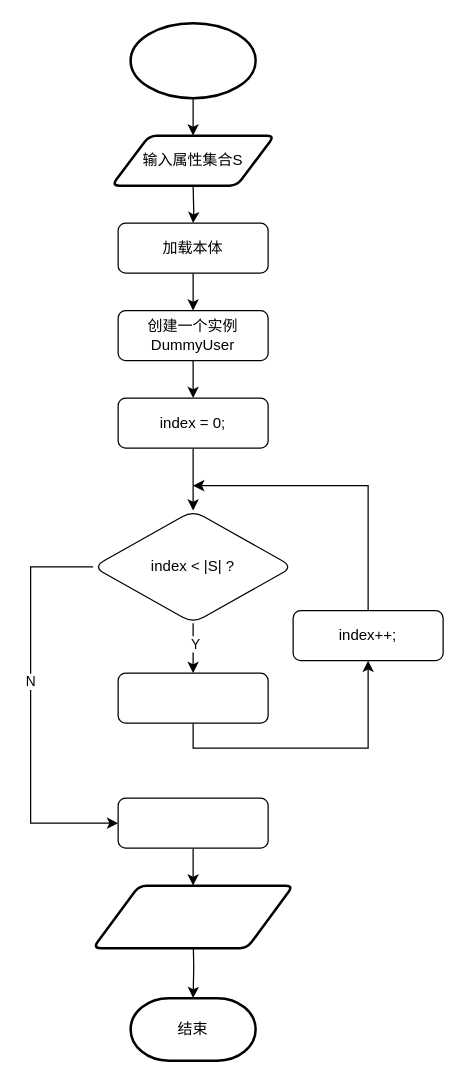
This 465x1083 diagram has some shape labels left out. Here are the shapes that lost their labels. From the top down, the centre of each, then its label:
At [192,60]: "开始".
At [192,697]: "为DummyUser添加属性S(index)".
At [192,822]: "使用推理机扩充隐含属性".
At [192,916]: "输出实例 DummyUser的 类集合S'".
